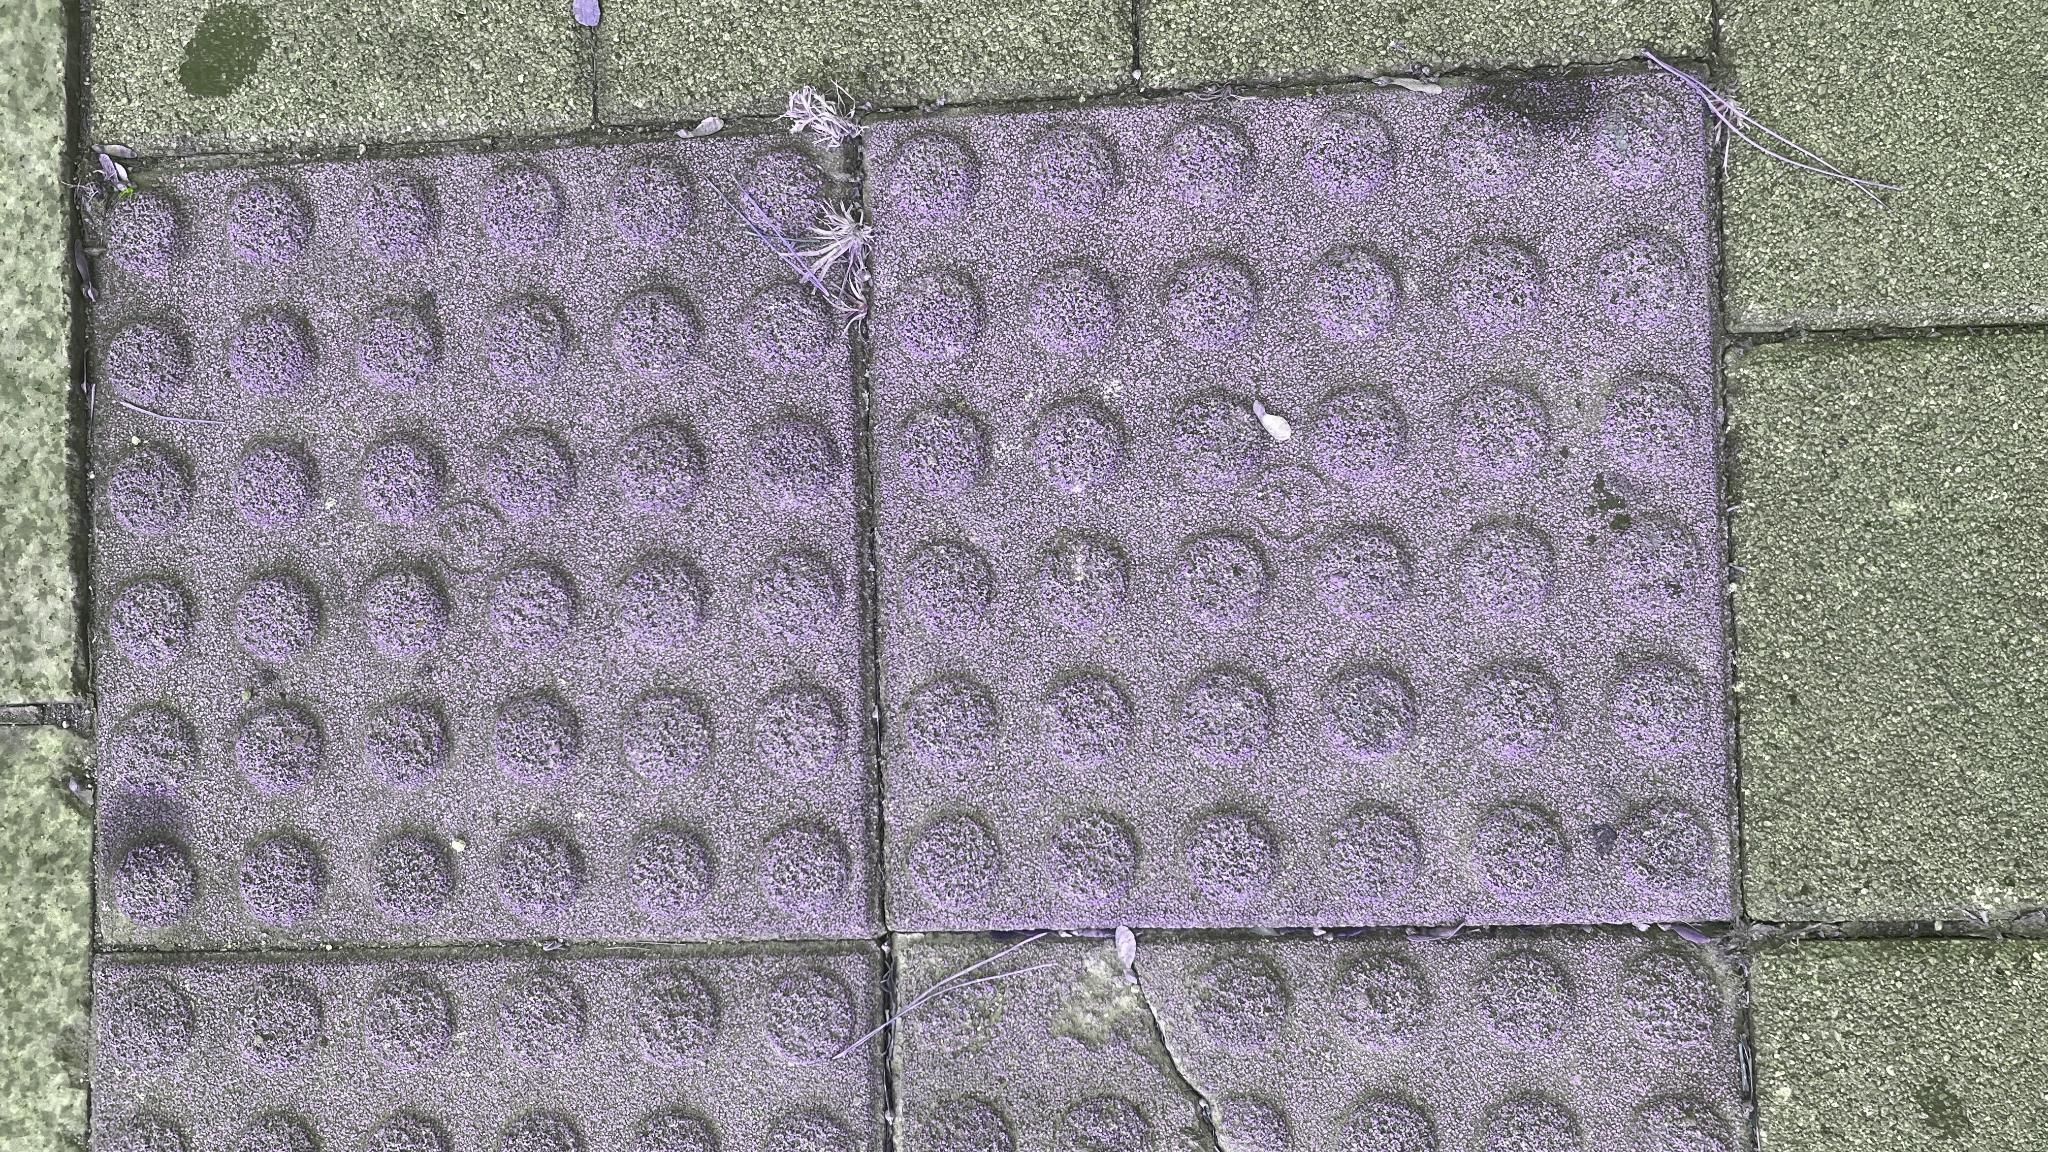Stop block normal: (226, 872, 1042, 1152)
